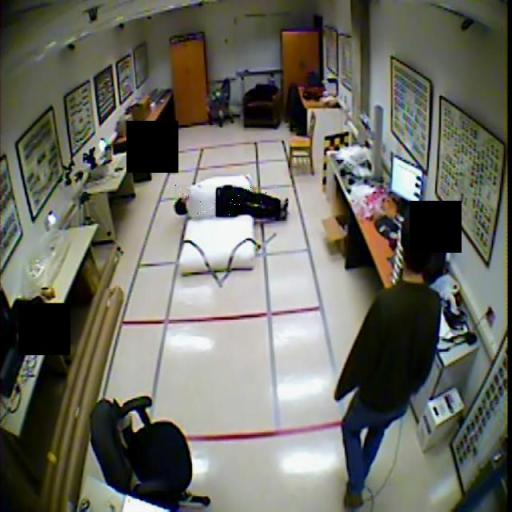Fall: (175, 185, 290, 221)
